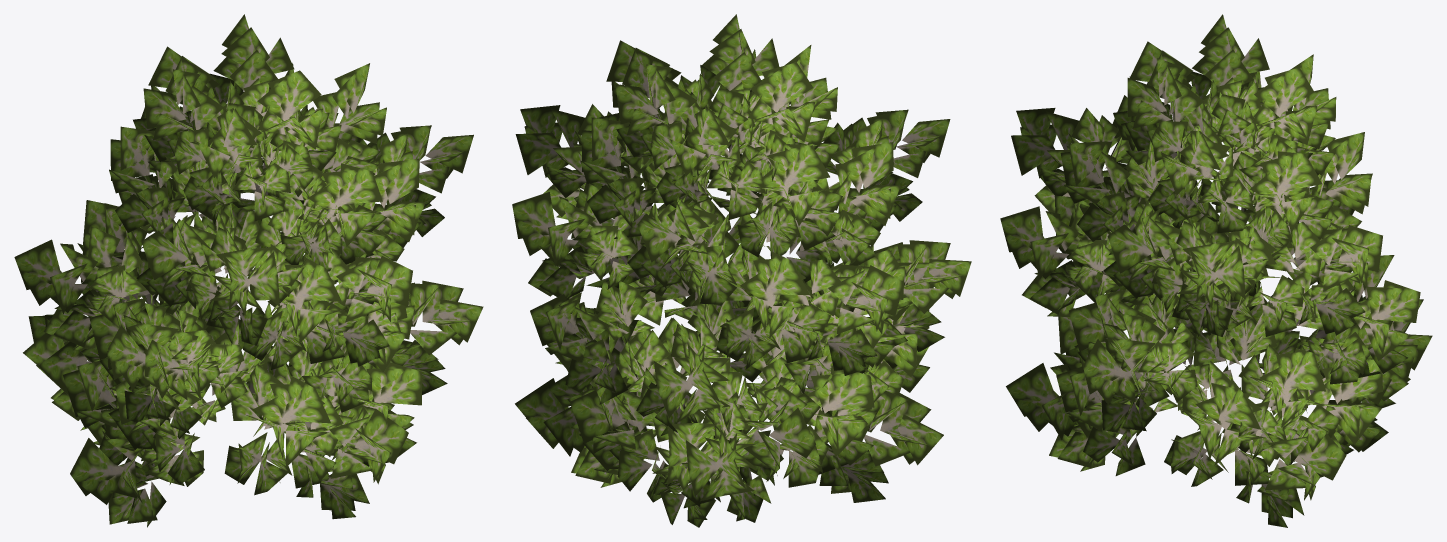
File: hetre_mort.glb
3 views of the same model, side by side, from view 1: azimuth 30°, elevation 25°; view 2: azimuth 150°, elevation 25°; view 3: azimuth 270°, elevation 25° (orthographic). The views are drawn at different scales.
Parts seen in each view (by area): view 1: Tree_1; view 2: Tree_1; view 3: Tree_1.
Boxes of the visible parts, x1,y1,x2,y2 form: Tree_1: (14, 14, 483, 527); Tree_1: (512, 14, 971, 527); Tree_1: (1000, 14, 1432, 527).
Size of the model in its own units: 28.95 by 29.41 by 26.8.
1 material, 1 textured.
